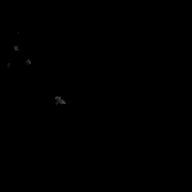v: (2, 40, 31, 68)
